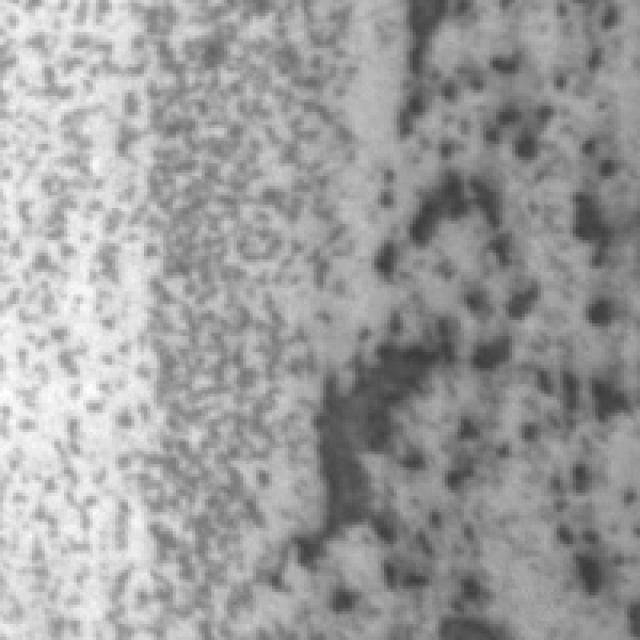patches: (291, 330, 448, 563)
pitted_surface: (7, 7, 356, 630), (320, 0, 633, 598)
